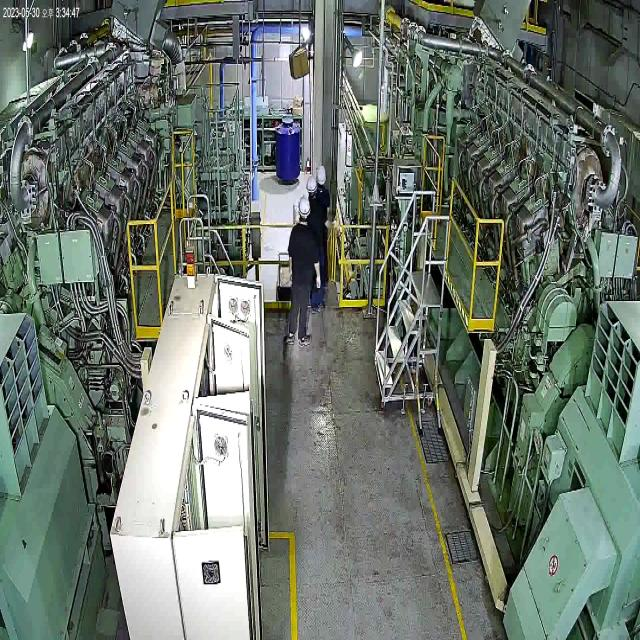Water Tank: (274, 110, 304, 187)
worker: (283, 188, 320, 358), (316, 162, 341, 283), (305, 176, 325, 321)
